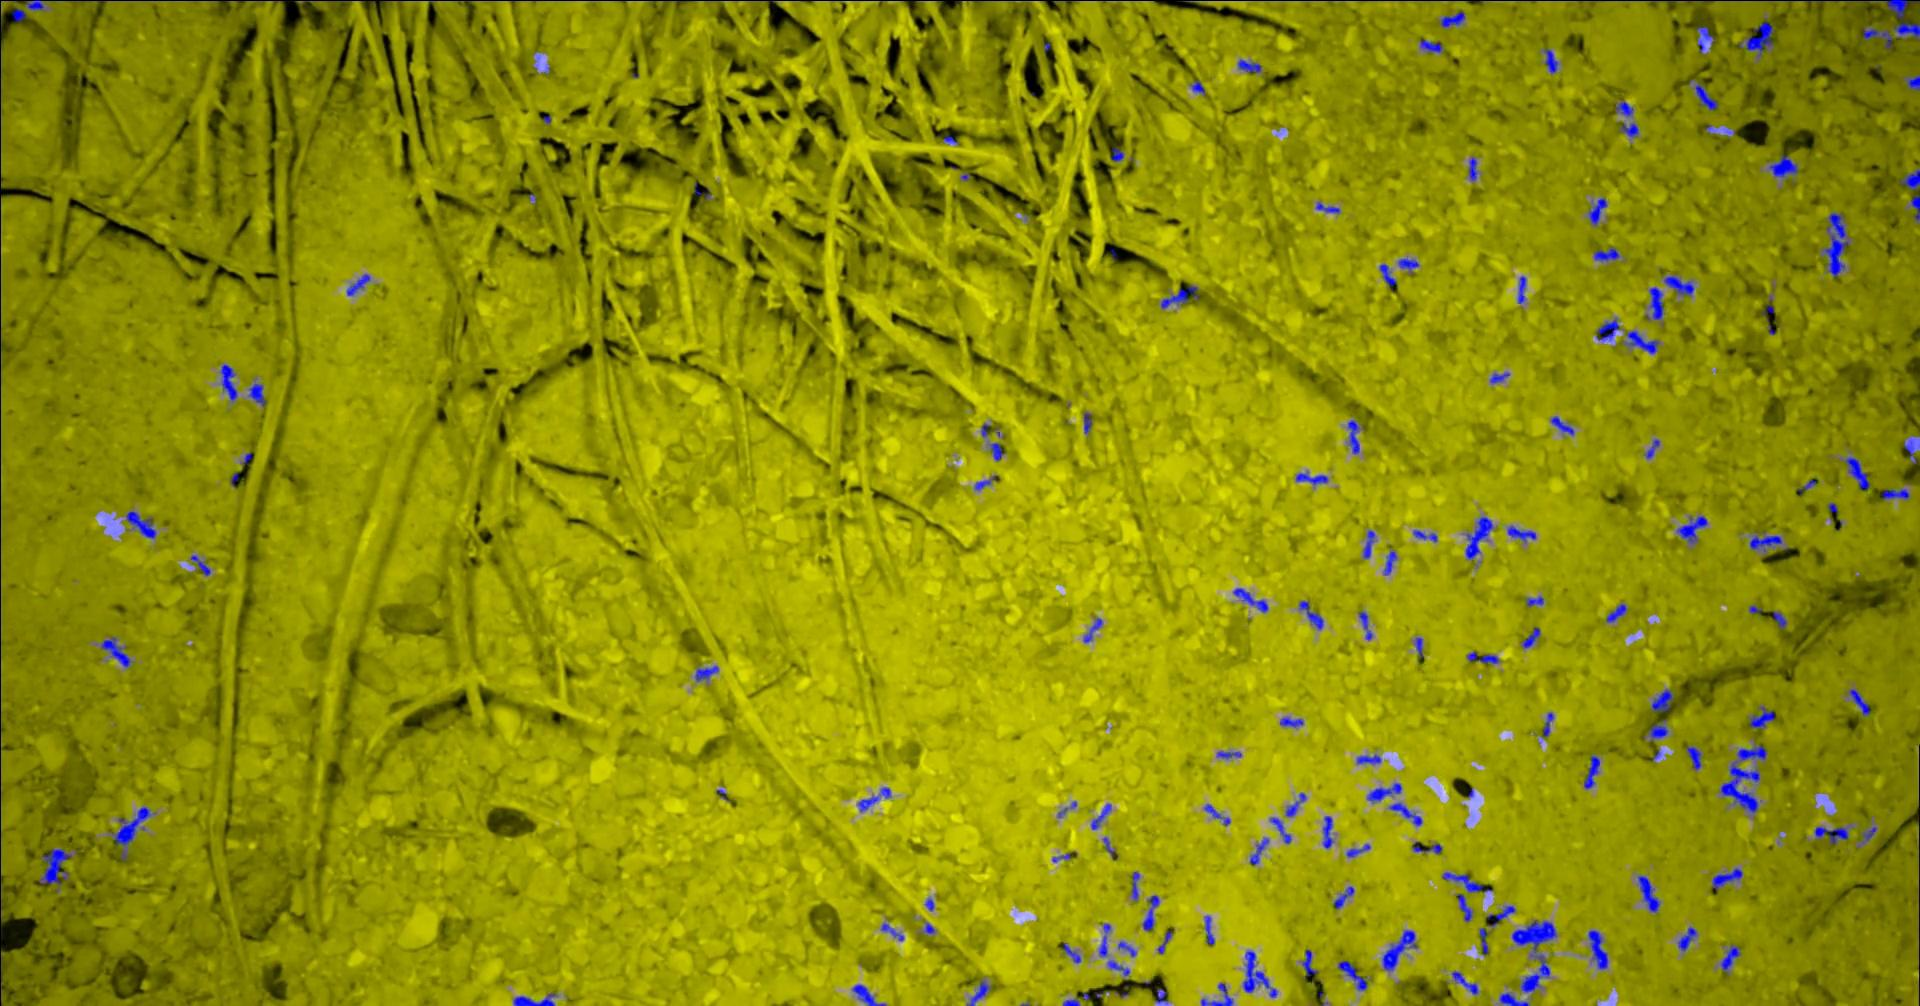ant: (1844, 0, 1919, 39), (110, 807, 150, 860), (1719, 761, 1760, 812), (1822, 212, 1848, 277), (1242, 951, 1276, 997), (1382, 929, 1417, 970), (1737, 18, 1773, 57), (1465, 516, 1492, 559), (39, 848, 71, 884), (1441, 873, 1491, 892), (100, 636, 130, 667), (1337, 960, 1368, 989), (1161, 285, 1199, 307), (1233, 587, 1267, 612), (124, 511, 155, 539), (1844, 456, 1869, 489), (1677, 514, 1707, 542), (1587, 930, 1608, 969), (1388, 801, 1421, 826), (1637, 875, 1658, 912), (1624, 330, 1658, 353), (1200, 982, 1233, 1005), (1298, 600, 1323, 629), (218, 365, 237, 401), (1862, 27, 1892, 50), (1768, 154, 1798, 177), (851, 984, 885, 1005), (1710, 868, 1742, 889), (1694, 83, 1718, 111), (1366, 782, 1401, 801), (1142, 895, 1159, 931), (1486, 904, 1515, 926), (1644, 286, 1663, 319), (1451, 970, 1477, 995), (1848, 688, 1869, 716), (1663, 276, 1693, 296), (1719, 944, 1740, 973), (1815, 826, 1848, 843), (966, 981, 990, 1005), (1595, 318, 1620, 340), (1749, 706, 1774, 729), (1090, 803, 1111, 829), (1269, 817, 1290, 843), (1204, 804, 1229, 826), (1749, 535, 1782, 551), (1250, 837, 1269, 865), (513, 992, 555, 1005), (1583, 754, 1599, 788), (1589, 197, 1606, 225), (1507, 525, 1535, 542), (1651, 688, 1672, 711), (345, 274, 370, 295), (1697, 25, 1714, 52), (1736, 744, 1766, 760), (1285, 793, 1305, 815), (1677, 926, 1697, 950), (1379, 263, 1396, 290), (1647, 719, 1667, 741), (1083, 617, 1101, 641), (1457, 893, 1472, 921), (1898, 169, 1919, 189), (1333, 887, 1352, 908), (248, 384, 265, 406), (1550, 417, 1573, 434), (880, 922, 903, 940), (1302, 949, 1317, 976), (1295, 471, 1327, 484), (1685, 746, 1702, 770), (1347, 419, 1359, 453), (1357, 611, 1371, 639), (1439, 11, 1464, 27), (190, 555, 210, 575), (1605, 603, 1625, 622), (1498, 992, 1529, 1005), (1465, 652, 1498, 663), (1322, 815, 1333, 848), (1098, 923, 1110, 956), (1412, 841, 1441, 854), (1543, 48, 1558, 72), (974, 475, 998, 490), (1592, 246, 1618, 260), (695, 666, 717, 681), (1157, 930, 1172, 953), (1521, 627, 1539, 647), (1062, 942, 1079, 962), (1346, 843, 1370, 857), (1397, 258, 1418, 273), (1107, 960, 1129, 976), (1903, 438, 1916, 464), (1237, 58, 1260, 72), (1881, 488, 1909, 499), (1363, 530, 1374, 558), (1204, 915, 1214, 945), (1418, 39, 1443, 52), (1412, 528, 1436, 541), (1383, 551, 1396, 574), (1117, 941, 1137, 956), (1644, 438, 1658, 459), (857, 796, 877, 810), (1542, 713, 1553, 737), (989, 442, 1004, 460), (1619, 122, 1638, 136), (1316, 202, 1338, 213), (1615, 102, 1633, 116), (1771, 610, 1785, 627), (1862, 826, 1876, 843), (1279, 716, 1303, 727), (1479, 927, 1488, 954), (1190, 79, 1205, 94), (1905, 74, 1919, 90), (1910, 196, 1919, 221), (1131, 871, 1139, 901), (1490, 372, 1509, 384), (1356, 754, 1380, 763), (1517, 276, 1525, 304), (24, 0, 44, 10), (1468, 158, 1477, 180), (11, 8, 25, 22), (1156, 988, 1167, 1005), (1217, 751, 1241, 758), (1525, 596, 1543, 606), (1415, 636, 1423, 657), (1110, 147, 1123, 161), (1083, 412, 1091, 433)
